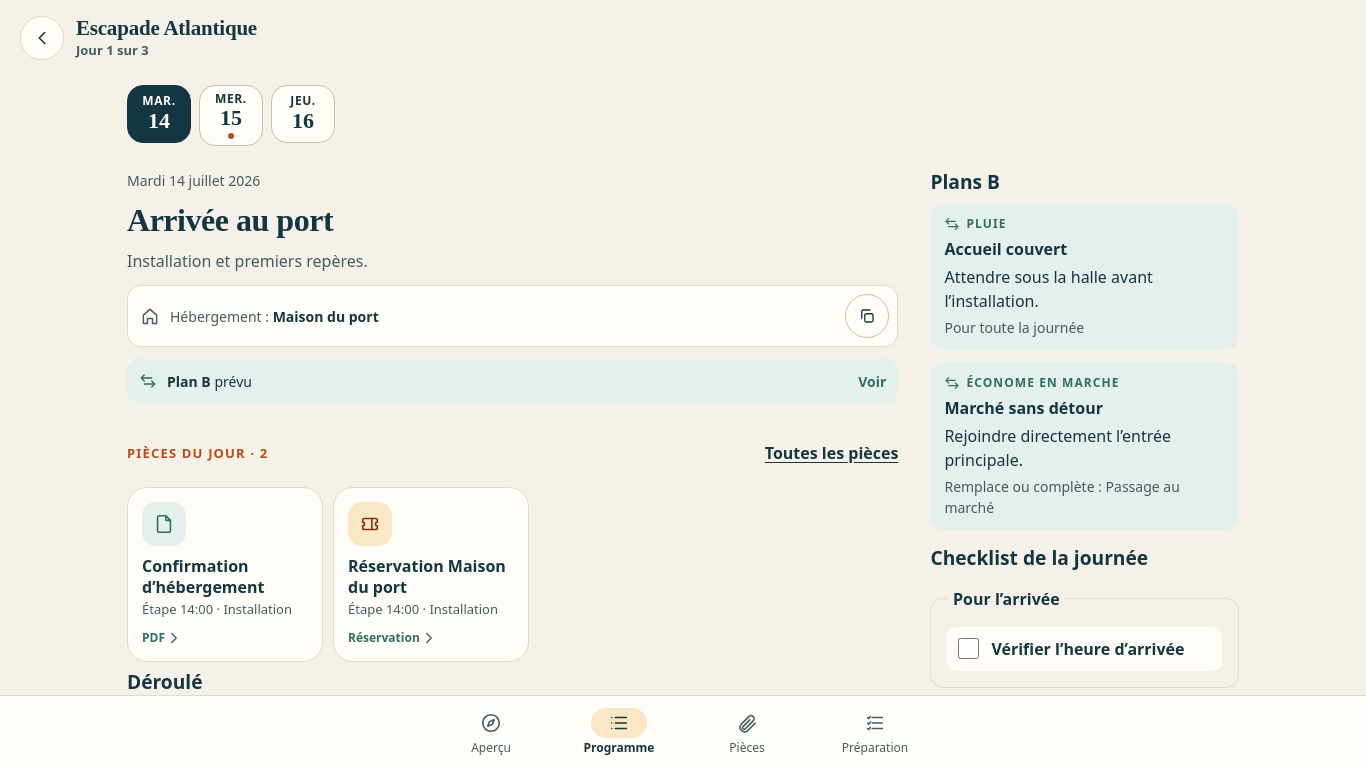
Test case: pièces du jour › présente une bande des pièces de la journée avec un accès à l’espace Pièces
Expected: the number of buttons named "Voir la fiche" is 2, [127,487,323,662]; [333,487,529,662]
What coordinates should you click on to do the following:
click the button "Toutes les pièces"
I would click on:
 (832, 453)
Its box is [765,431,898,475].
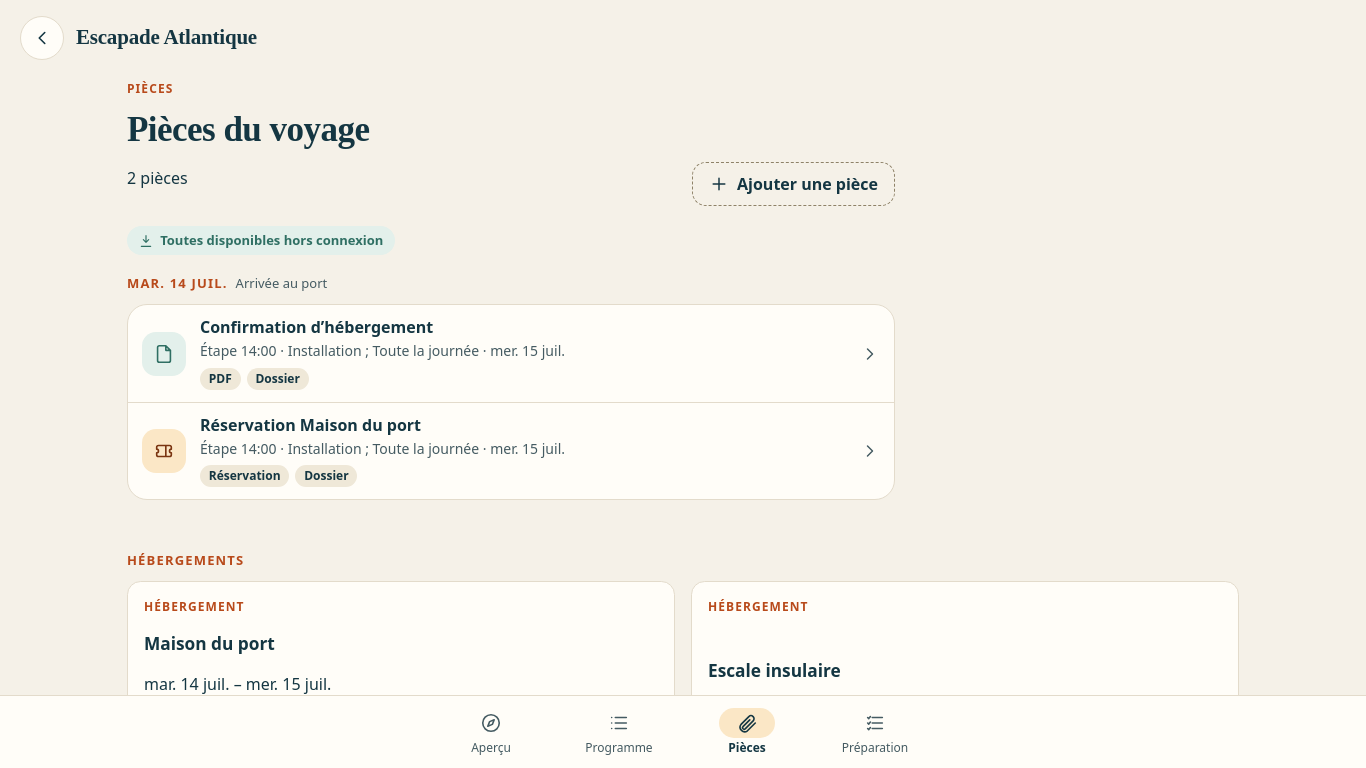
Expected: the heading "Pièces du voyage" is shown, [127,110,369,150]
